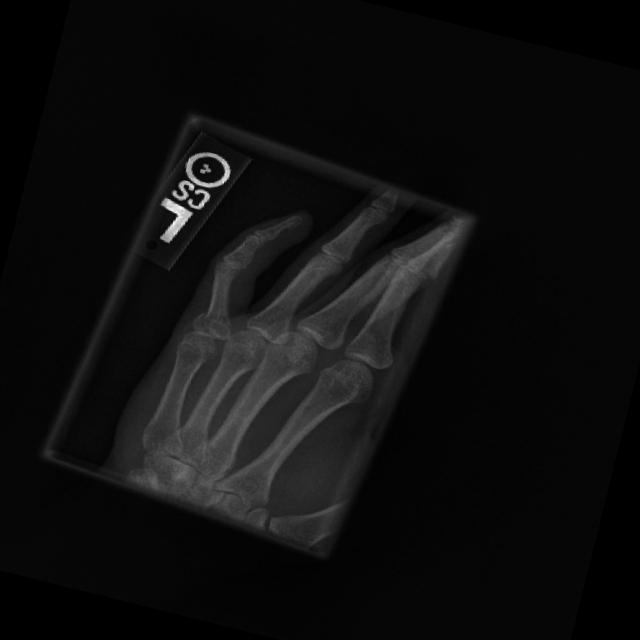fingers positive: (178, 291, 246, 352)
